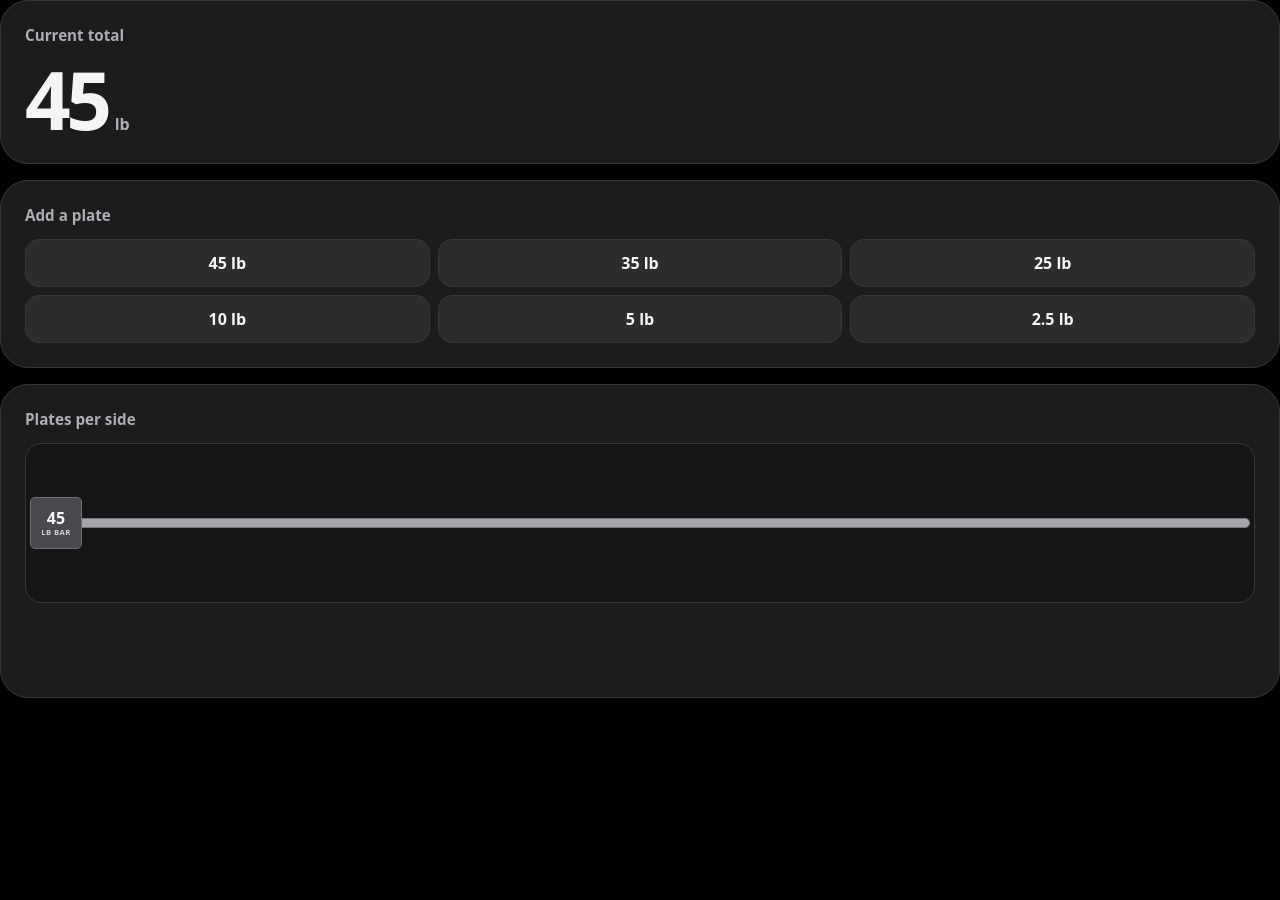
Scenario: Slice 003 Plates to Total Weight calculator › S3-AC-004 adds repeated plates without disabling or moving focus
Click the button with aria-label "Add 45 lb plate" at (227, 263), box x1=25 y1=239 x2=430 y2=287
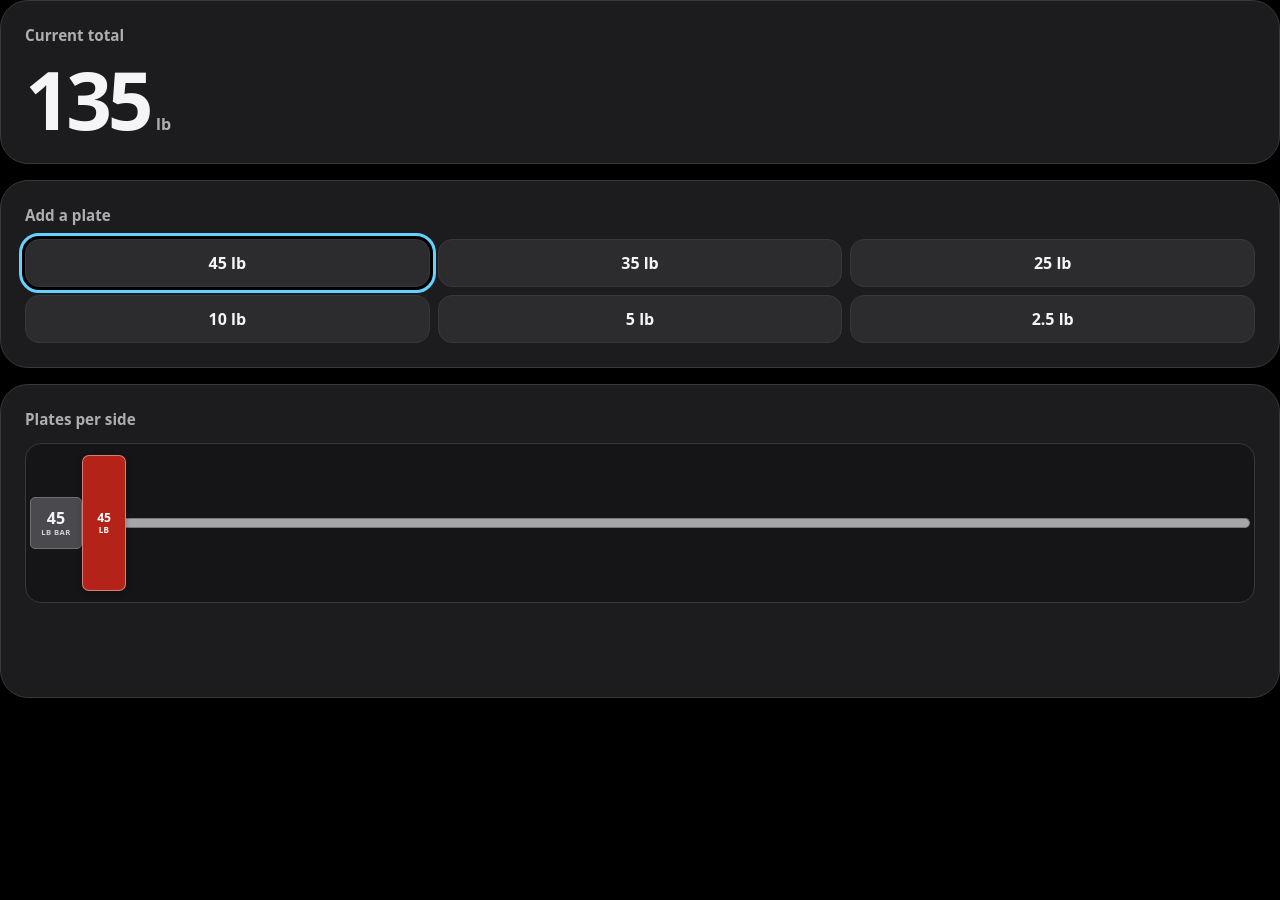
Press Enter
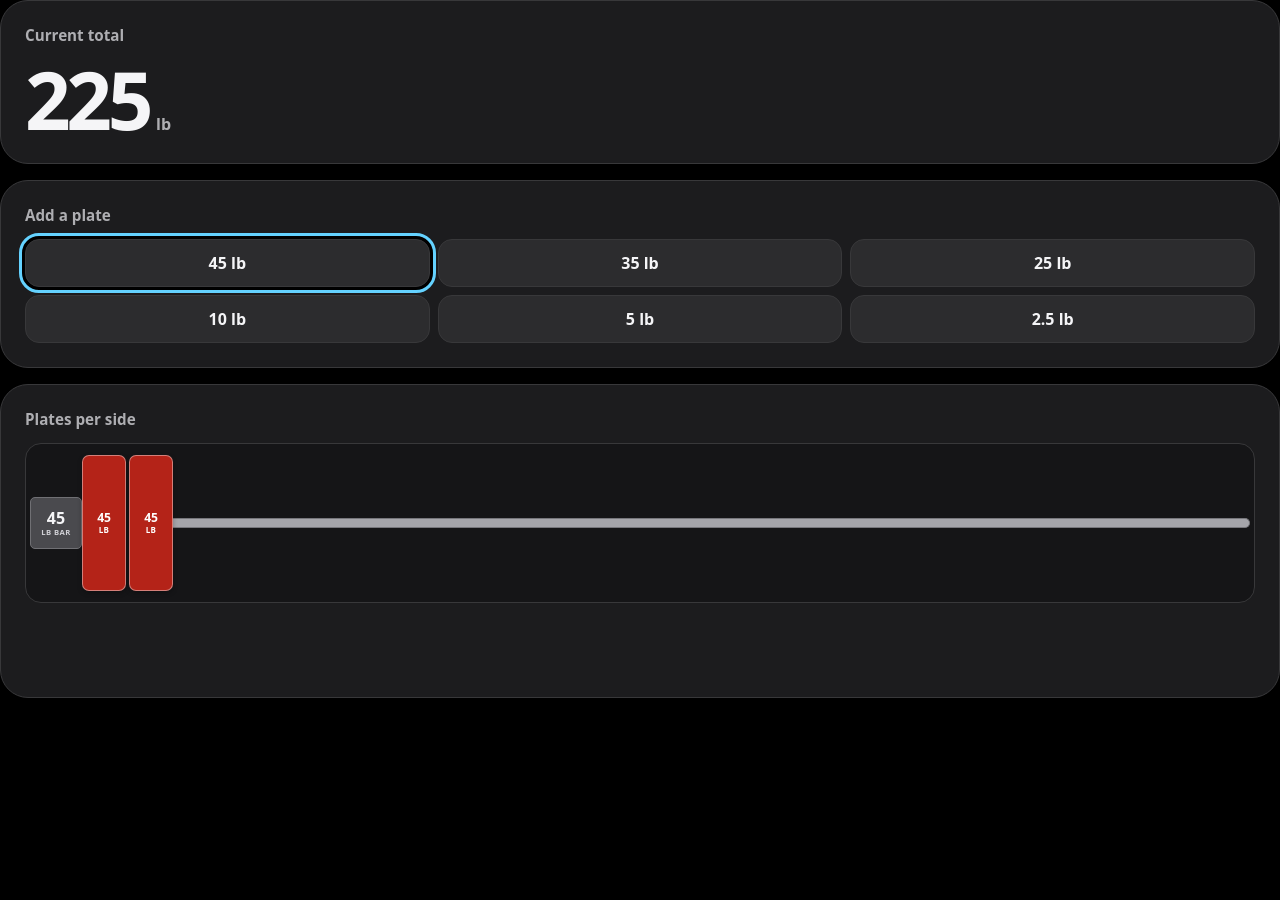
Check: the button with aria-label "Add 45 lb plate" is enabled, box x1=25 y1=239 x2=430 y2=287
Check: the number of buttons named "Remove 45 lb plate" is 2, box x1=82 y1=455 x2=126 y2=591; x1=129 y1=455 x2=173 y2=591
